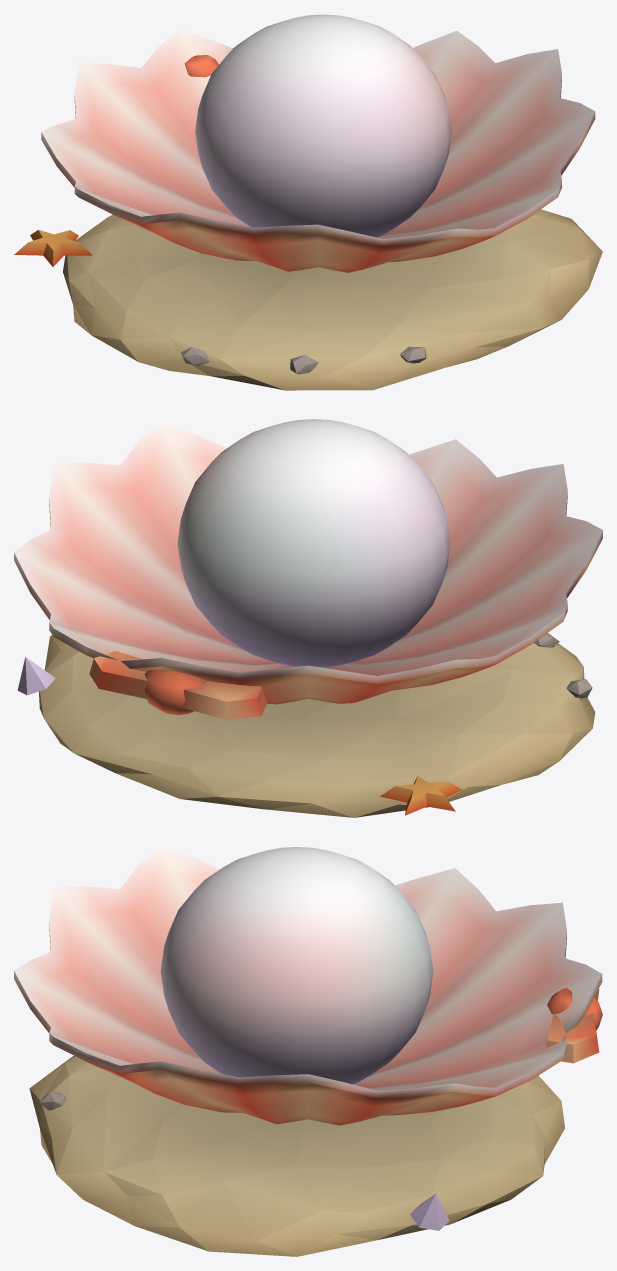
The model's file is bounce_shell.glb.
3 views of the same model, one above another, from view 1: azimuth 30°, elevation 25°; view 2: azimuth 150°, elevation 25°; view 3: azimuth 270°, elevation 25° (orthographic). The views are drawn at different scales.
Parts seen in each view (by area): view 1: bounce_shell, top; view 2: bounce_shell, top; view 3: bounce_shell, top.
Part boxes in pixels (left/top/right/bottom): bounce_shell: left=14, top=29, right=602, bottom=390; top: left=195, top=14, right=451, bottom=237; bounce_shell: left=14, top=422, right=602, bottom=817; top: left=177, top=419, right=450, bottom=667; bounce_shell: left=14, top=846, right=602, bottom=1256; top: left=160, top=847, right=433, bottom=1084.
Bounding box in the file's own units: 1.62 × 0.8 × 1.6.
